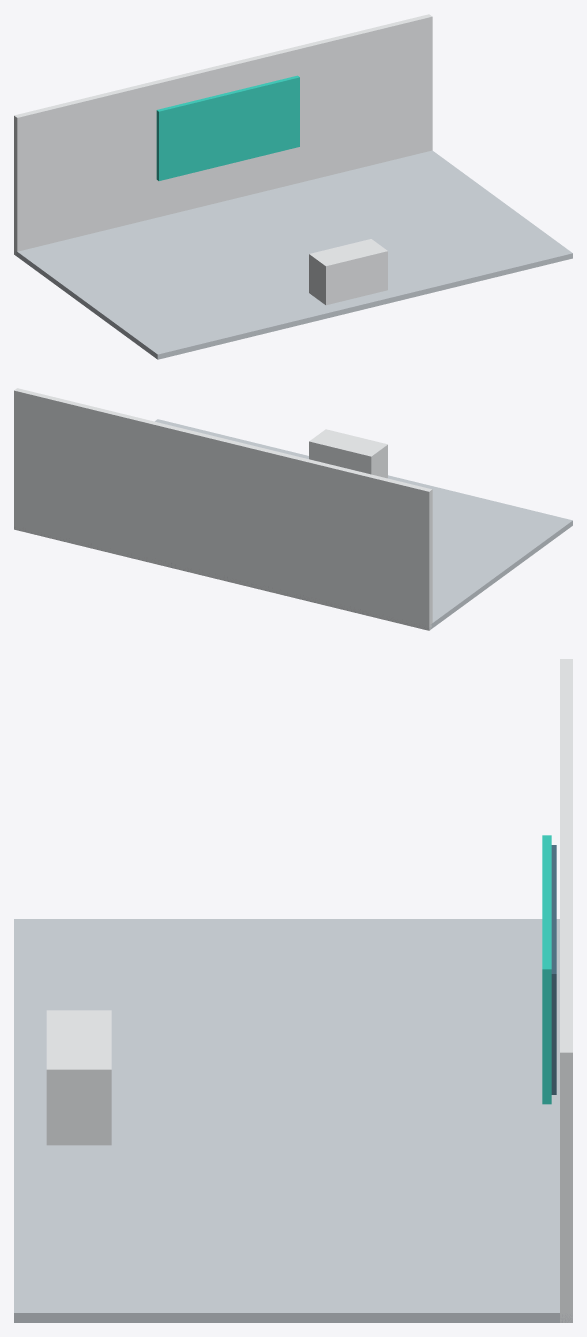
3 views of the same model, one above another, from view 1: azimuth 30°, elevation 25°; view 2: azimuth 150°, elevation 25°; view 3: azimuth 270°, elevation 25° (orthographic). The views are drawn at different scales.
Parts seen in each view (by area): view 1: Exhibition Booth Concept; view 2: Exhibition Booth Concept; view 3: Exhibition Booth Concept.
Part boxes in pixels (x1,y1,x2,y2): Exhibition Booth Concept: [14, 14, 572, 359]; Exhibition Booth Concept: [14, 388, 572, 630]; Exhibition Booth Concept: [14, 659, 572, 1322].
Size of the model in its own units: 10 by 3.2 by 6.
